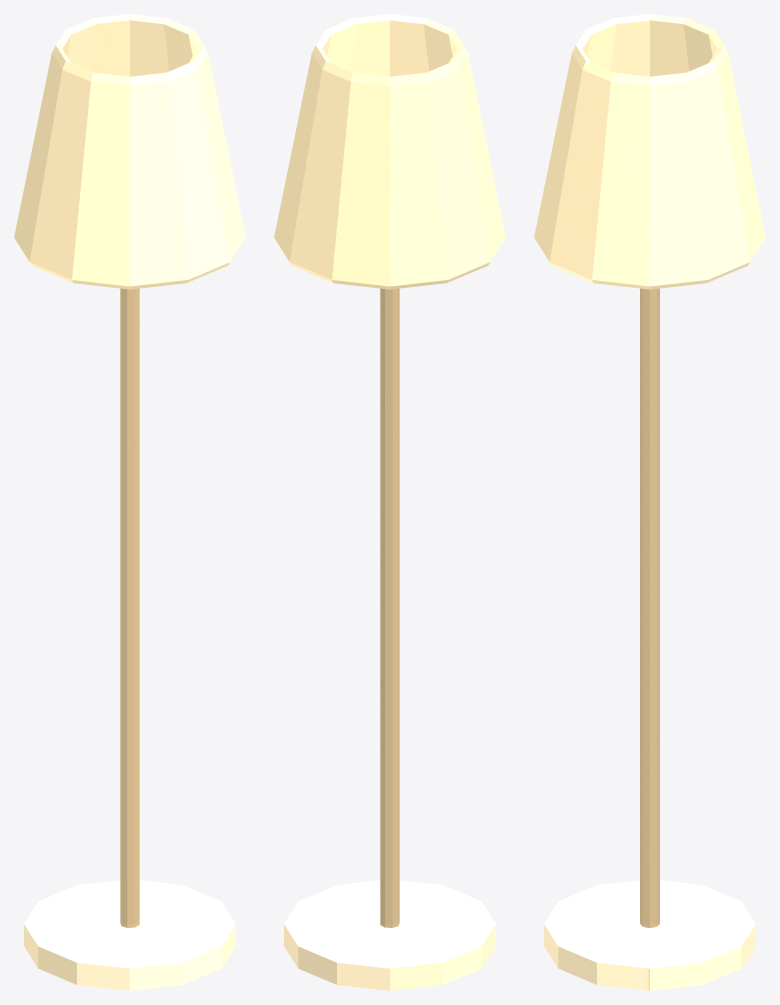
The model's file is floor_lamp.glb.
The picture shows the model from 3 angles, left to right: view 1: azimuth 30°, elevation 25°; view 2: azimuth 150°, elevation 25°; view 3: azimuth 270°, elevation 25°; orthographic projection.
Parts seen in each view (by area): view 1: home_floor_lamp; view 2: home_floor_lamp; view 3: home_floor_lamp.
Part boxes in pixels (box(x1,y1,x2,y2)): home_floor_lamp: box(14, 14, 245, 990); home_floor_lamp: box(274, 14, 505, 990); home_floor_lamp: box(534, 14, 765, 990).
Bounding box in the file's own units: 0.35 × 1.5 × 0.35.
Materials: 1 (1 with a texture image).
